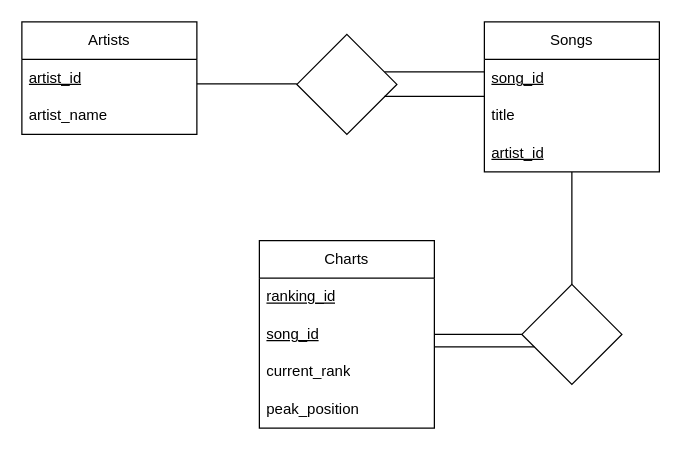
Some shapes in this 681 by 450 pixel diagram are drawn without their labels. Here are the shapes that lost their labels. From the top down, the centre of each, then its label:
At [346,83]: "membuat".
At [571,333]: "memiliki".
